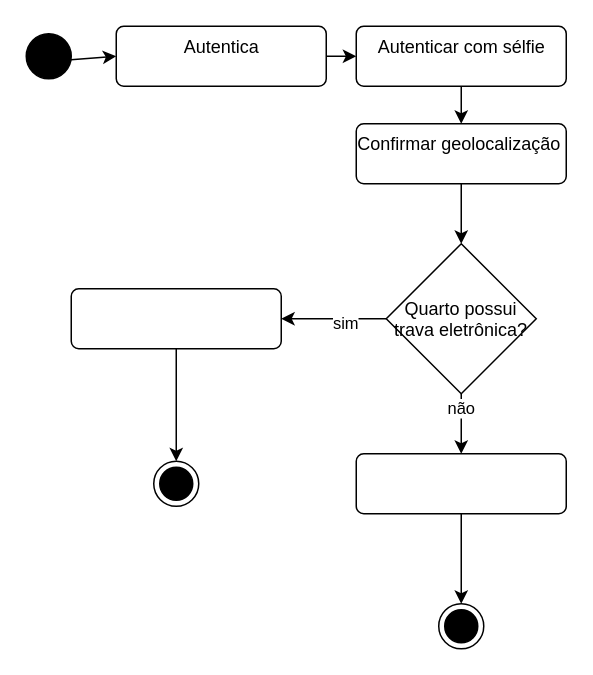
This 593x675 diagram has some shape labels left out. Here are the shapes that lost their labels. From the top down, the centre of each, then its label:
At pixel 175 318: "pegar chave com balconista".
At pixel 460 483: "gerar senha da porta".
